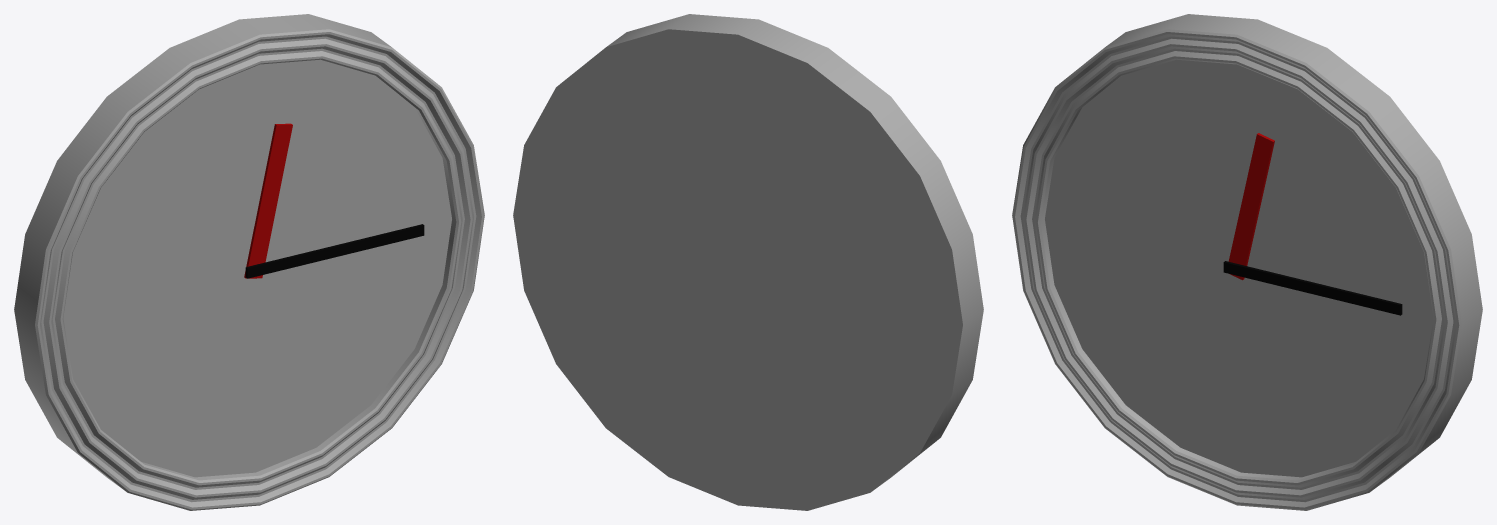
File: Clock.fbx
3 renders of one model, left to right at view 1: azimuth 30°, elevation 25°; view 2: azimuth 150°, elevation 25°; view 3: azimuth 330°, elevation 25°, orthographic.
Parts seen in each view (by area): view 1: pCylinder1, pCube2, pCube1; view 2: pCylinder1; view 3: pCylinder1, pCube2, pCube1.
Boxes of the visible parts, x1,y1,x2,y2 form: pCylinder1: [14, 14, 484, 510]; pCube2: [244, 123, 292, 278]; pCube1: [245, 224, 424, 278]; pCylinder1: [513, 14, 983, 510]; pCylinder1: [1012, 14, 1482, 510]; pCube2: [1228, 133, 1274, 280]; pCube1: [1223, 261, 1402, 315].
Bounding box in the file's own units: 2.29 × 2.29 × 0.1924.
